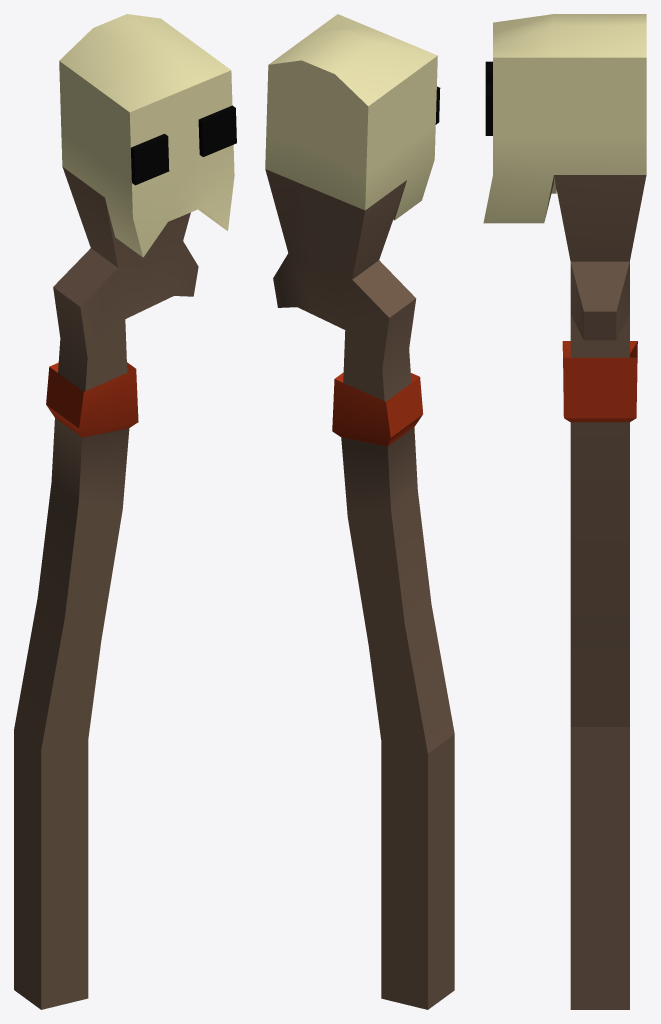
Rendered from OrcStaff.fbx.
3 renders of one model, left to right at view 1: azimuth 30°, elevation 25°; view 2: azimuth 150°, elevation 25°; view 3: azimuth 270°, elevation 25°, orthographic. The views are drawn at different scales.
Parts seen in each view (by area): view 1: Staff; view 2: Staff; view 3: Staff.
Part boxes in pixels (x1,y1,x2,y2): Staff: (14, 14, 236, 1009); Staff: (265, 14, 454, 1009); Staff: (483, 14, 646, 1009).
Bounding box in the file's own units: 132 × 723 × 104.
